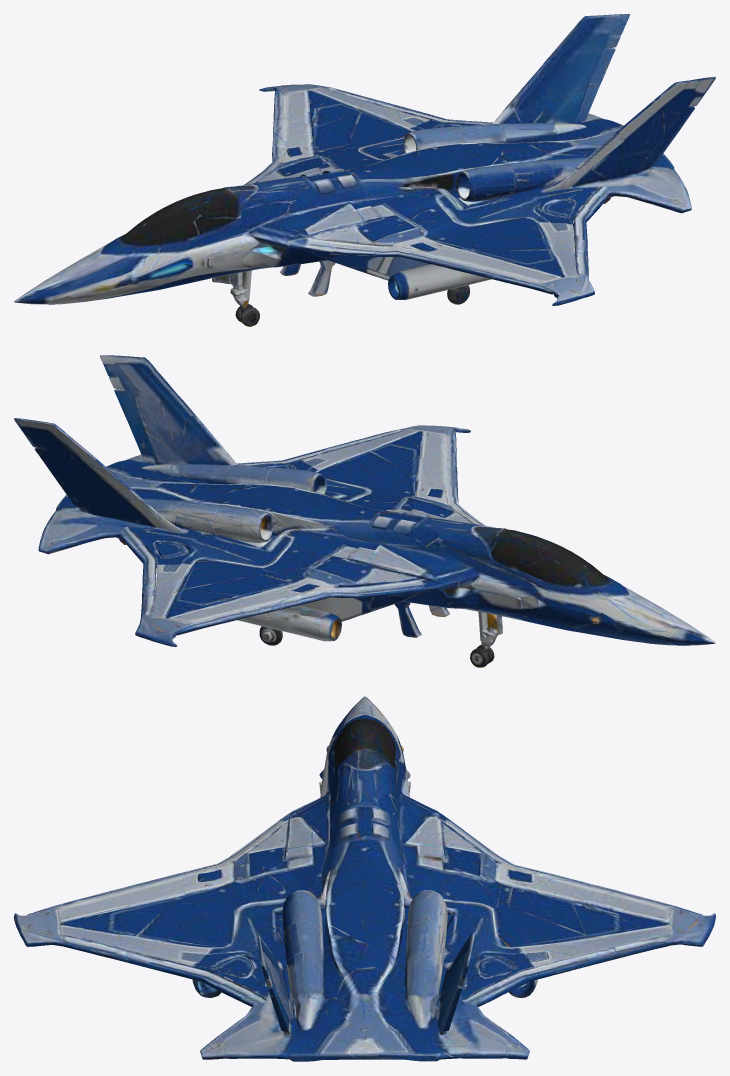
Rendered from mech4_jet.glb.
3 renders of one model, top to bottom at view 1: azimuth 30°, elevation 25°; view 2: azimuth 150°, elevation 25°; view 3: azimuth 270°, elevation 25°, orthographic. The views are drawn at different scales.
Size of the model in its own units: 1.9 by 0.5012 by 1.47.
1 material, 1 textured.
